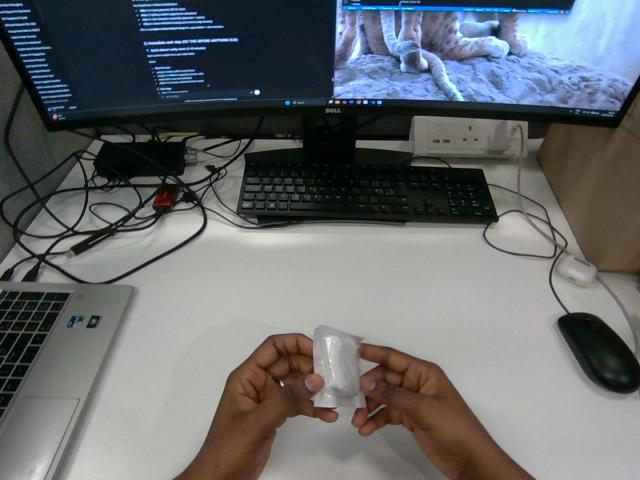gauze: (313, 326, 364, 407)
